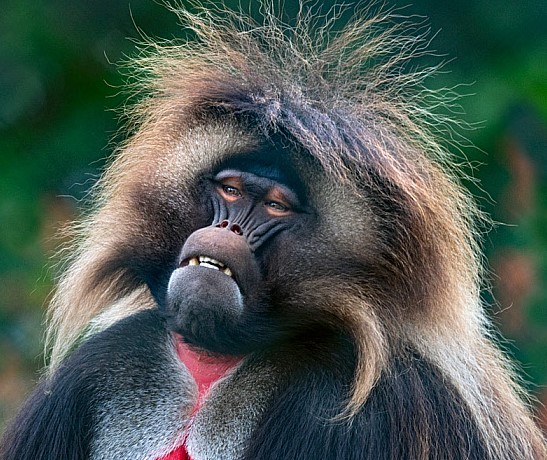Gelada: (78, 44, 450, 460)
